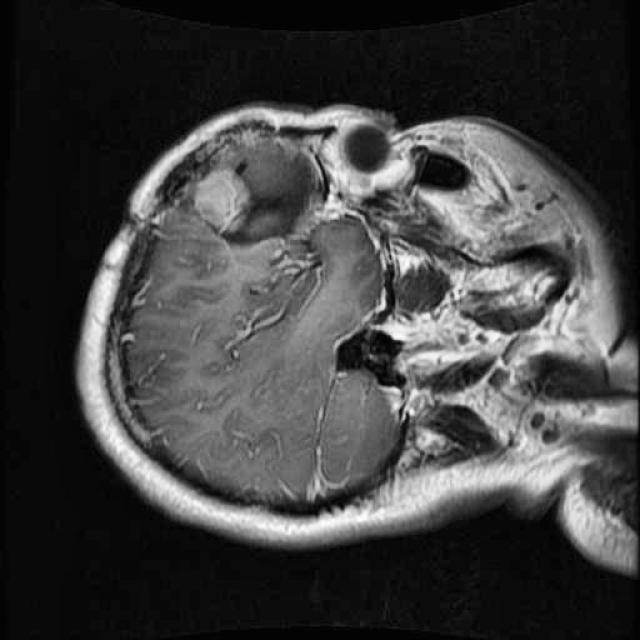Tumor: (190, 132, 336, 256)
